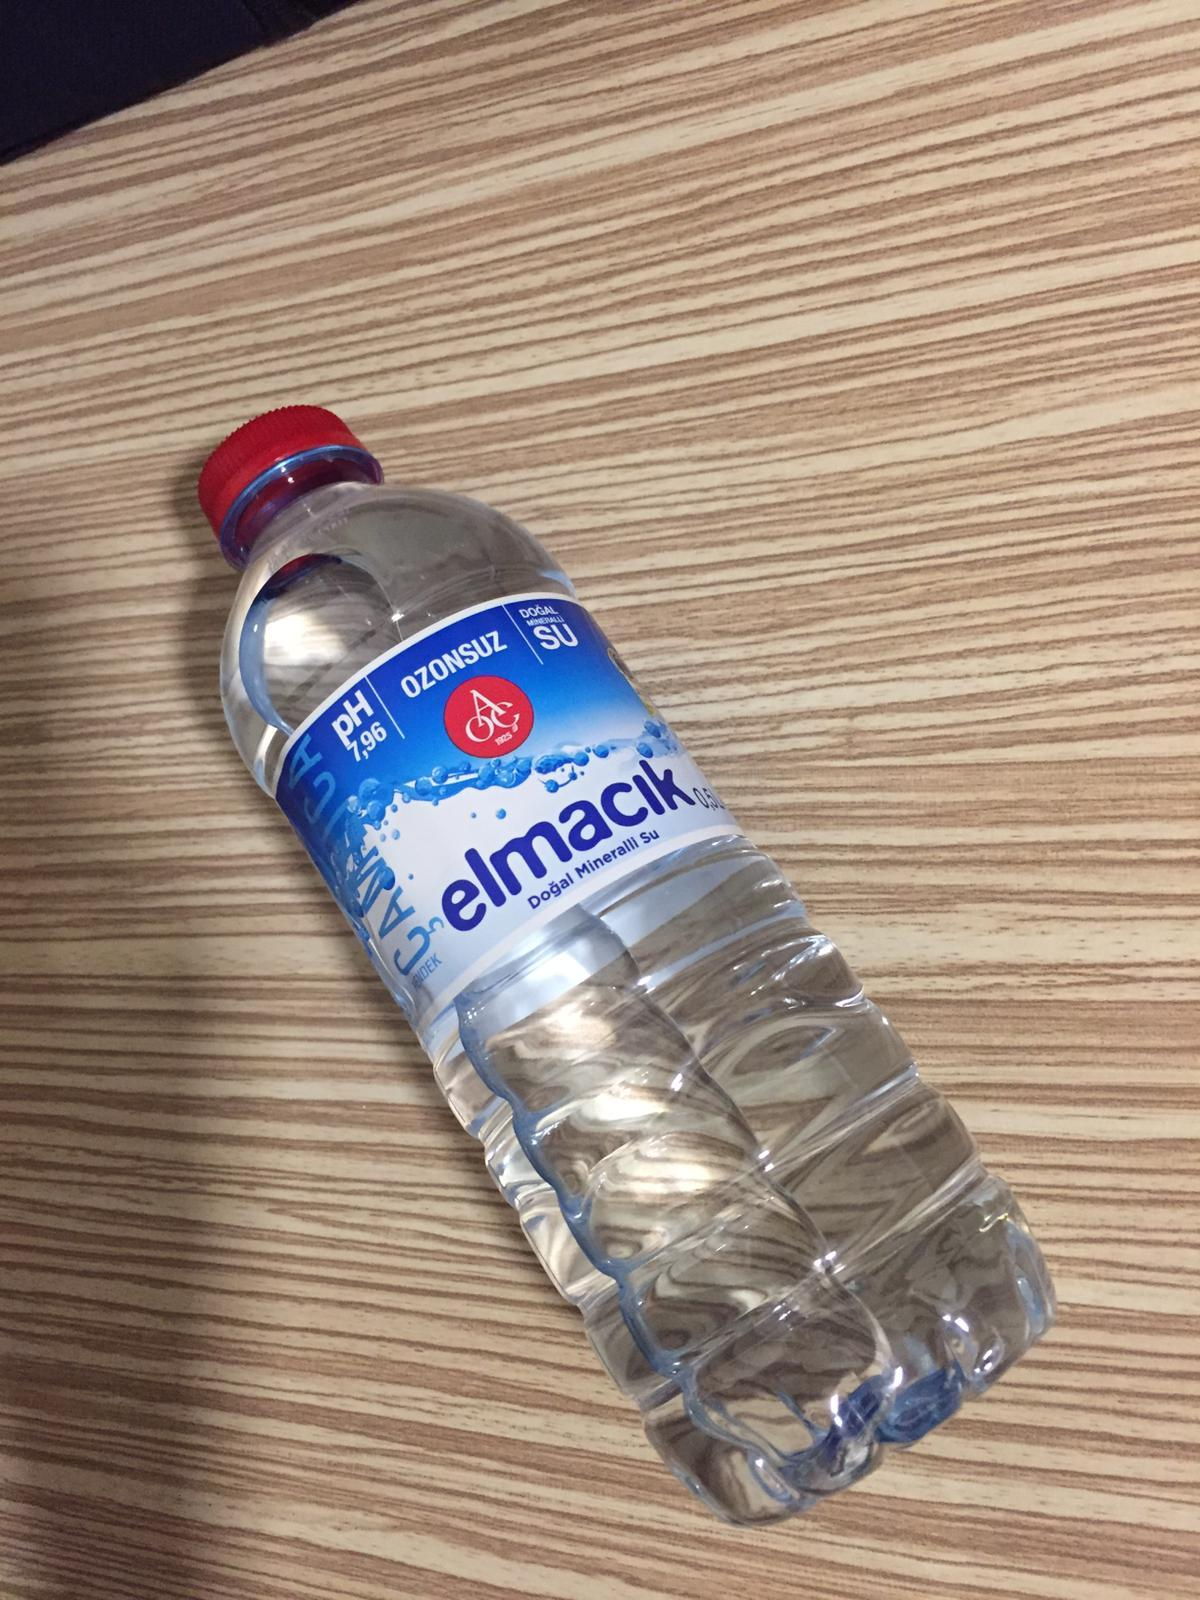bottle: (184, 391, 1066, 1527)
